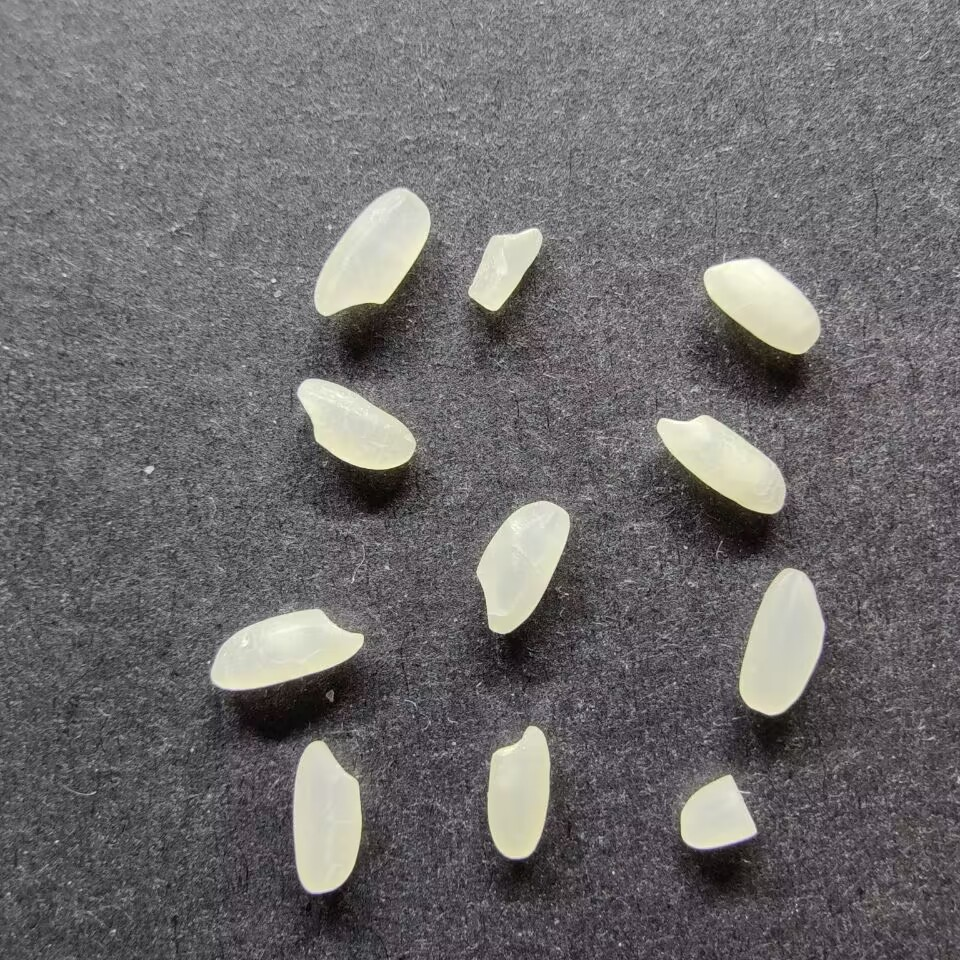broken: (465, 225, 544, 313), (678, 773, 761, 853)
rice: (312, 186, 431, 319), (736, 566, 827, 717), (654, 412, 786, 516), (207, 606, 365, 692), (473, 499, 571, 636), (701, 256, 823, 357), (295, 376, 418, 472), (290, 739, 363, 895), (485, 722, 552, 861)
